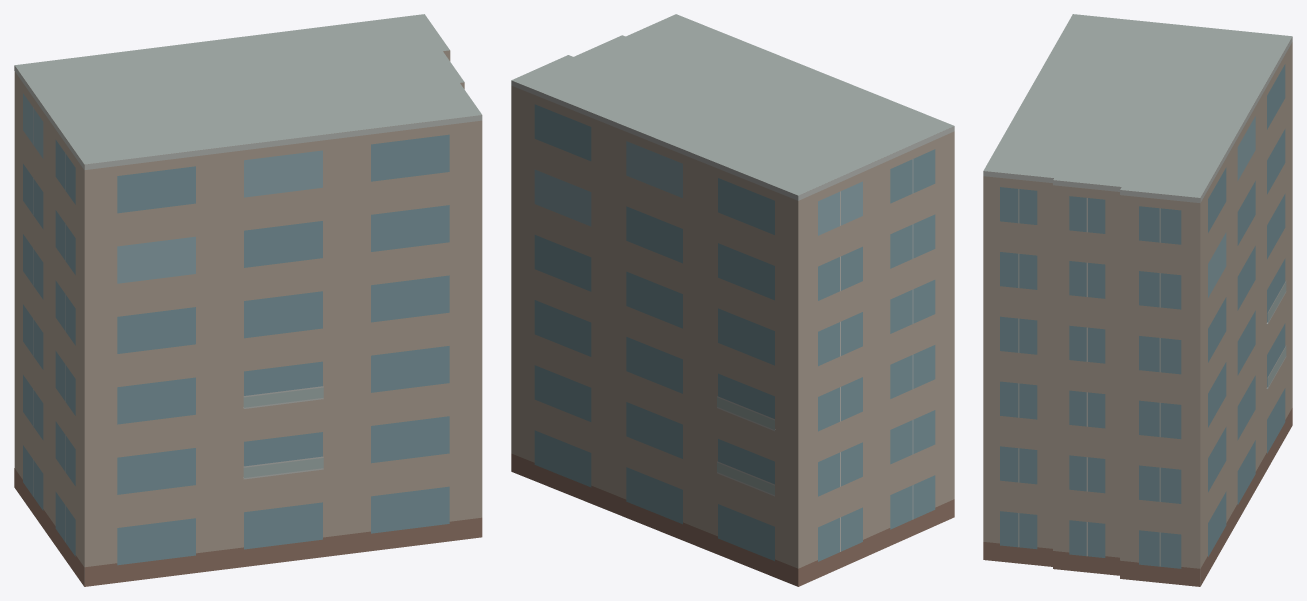
Rendered from survey-upis-32656225.glb.
3 renders of one model, left to right at view 1: azimuth 30°, elevation 25°; view 2: azimuth 150°, elevation 25°; view 3: azimuth 270°, elevation 25°, orthographic. The views are drawn at different scales.
Parts seen in each view (by area): view 1: survey-upis-32656225.tmp; view 2: survey-upis-32656225.tmp; view 3: survey-upis-32656225.tmp.
Part boxes in pixels (x1,y1,x2,y2): survey-upis-32656225.tmp: (14,14,482,586); survey-upis-32656225.tmp: (511,14,954,586); survey-upis-32656225.tmp: (983,14,1292,586).
Size of the model in its own units: 18.58 by 18.3 by 13.2.
